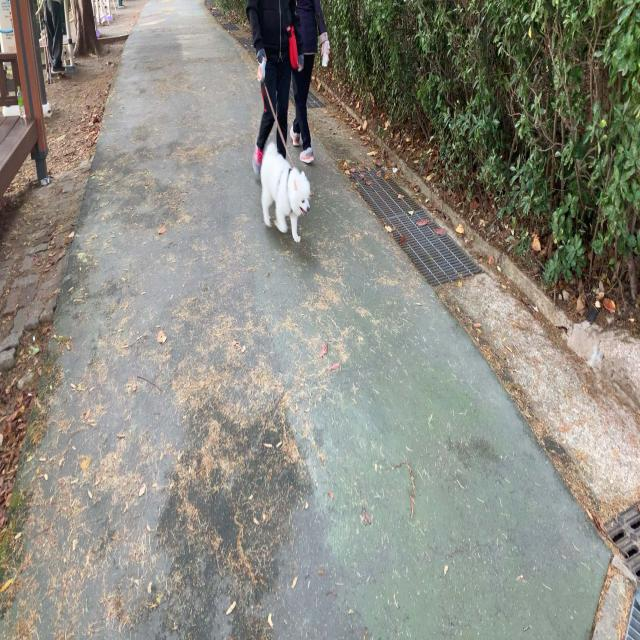Leashed_Dog: (252, 50, 310, 242)
